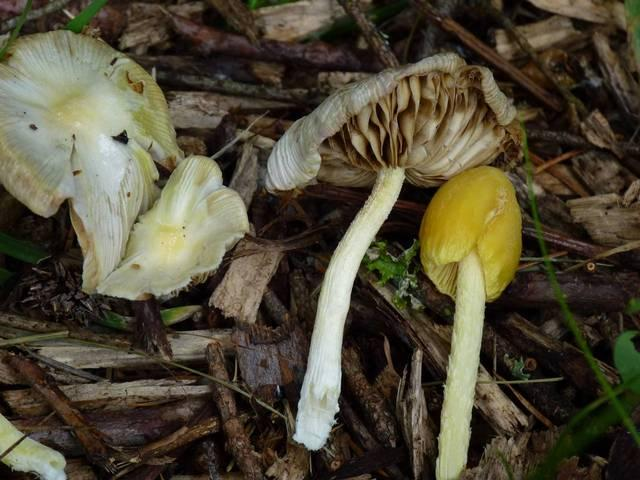Edible Mushroom: (263, 51, 518, 452), (2, 26, 258, 311), (417, 164, 523, 479)
